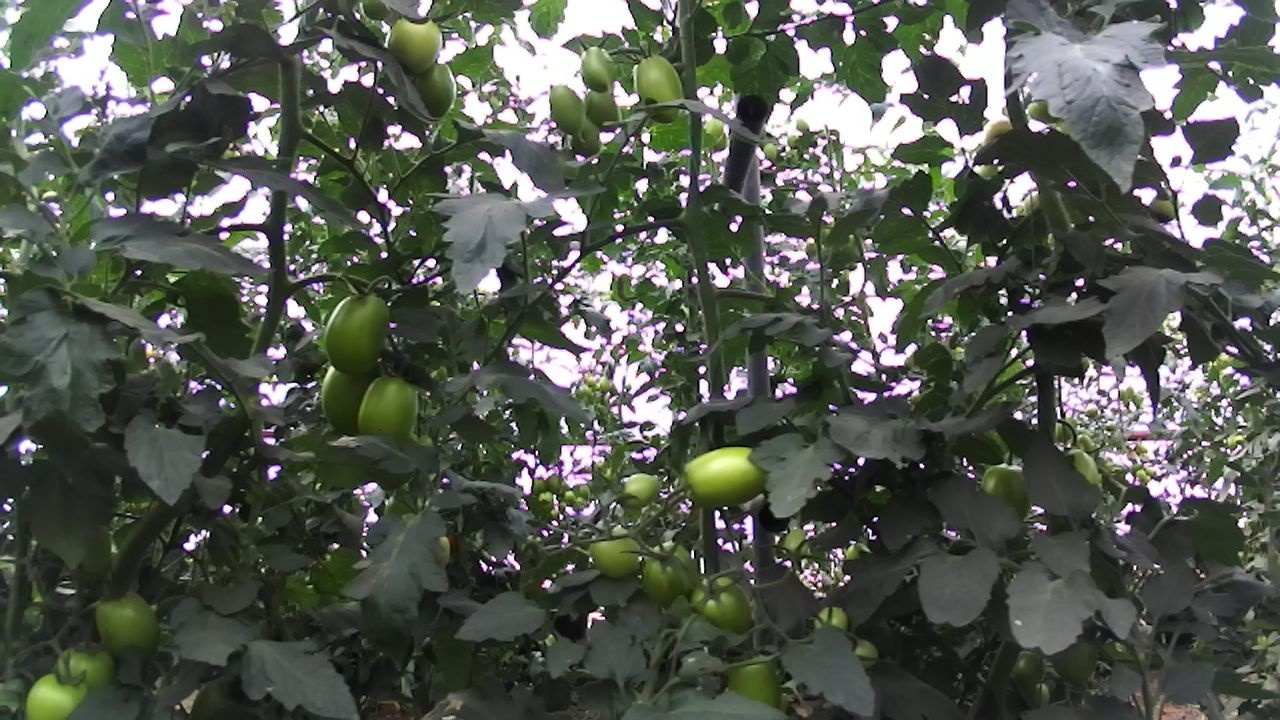tomato: (312, 273, 414, 386), (670, 430, 790, 525), (299, 344, 400, 453), (345, 360, 440, 461), (673, 556, 769, 654), (86, 573, 174, 672), (628, 530, 721, 623), (620, 34, 702, 135), (574, 509, 660, 598), (375, 3, 457, 83), (711, 643, 799, 717), (401, 48, 476, 129), (46, 631, 127, 703), (974, 452, 1044, 533), (14, 657, 100, 720), (1044, 624, 1114, 701), (608, 458, 676, 525), (541, 77, 601, 146), (572, 31, 628, 101), (574, 76, 633, 138), (999, 639, 1052, 701), (560, 105, 613, 167), (805, 594, 858, 652), (840, 623, 889, 678), (1139, 183, 1189, 232), (770, 521, 821, 569), (694, 108, 730, 155), (1051, 409, 1082, 448), (757, 136, 785, 165), (544, 470, 565, 496), (792, 115, 815, 138), (535, 486, 555, 507), (576, 481, 595, 503), (531, 474, 549, 497), (560, 486, 579, 507), (597, 372, 612, 395), (1083, 404, 1101, 420), (583, 372, 599, 390), (1134, 467, 1148, 481)
